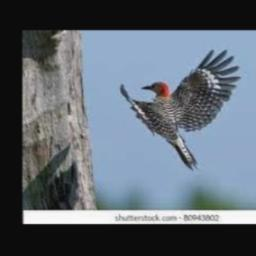Woodpecker: (120, 49, 241, 170)
